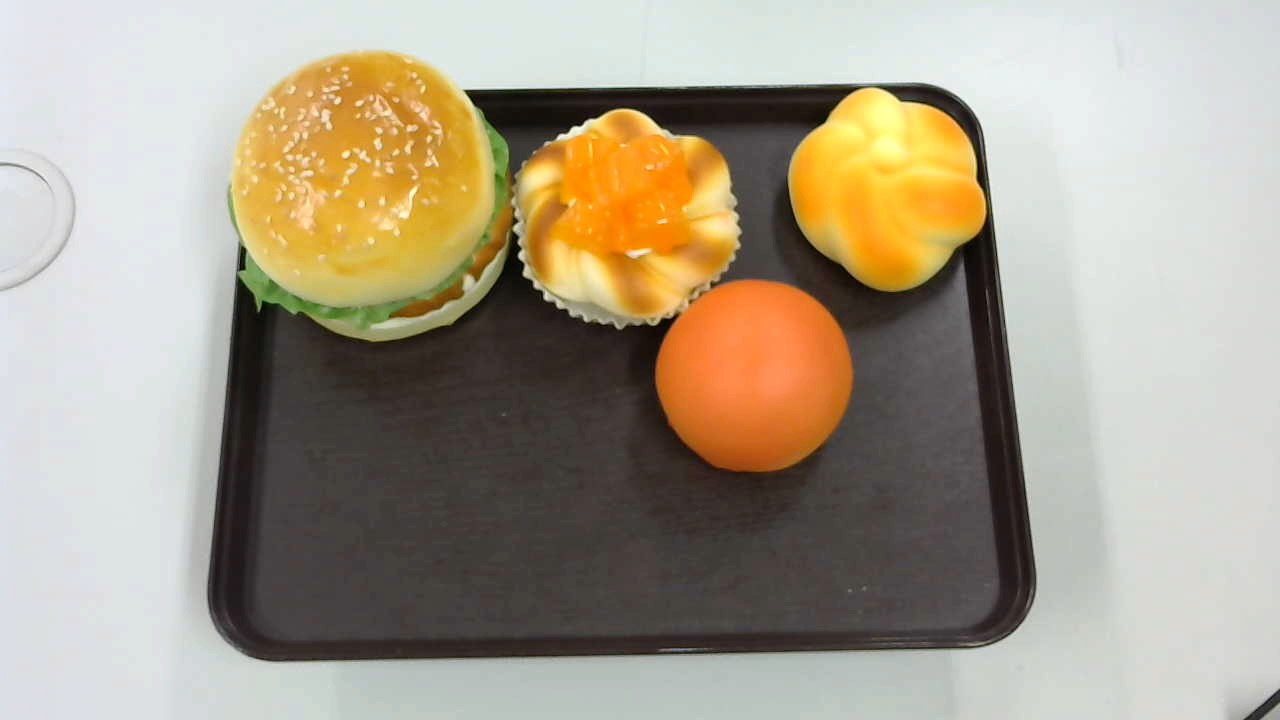bun: (655, 279, 854, 471)
hamburger: (227, 51, 513, 343)
mango tart: (512, 104, 743, 328)
twist bread: (786, 88, 986, 293)
